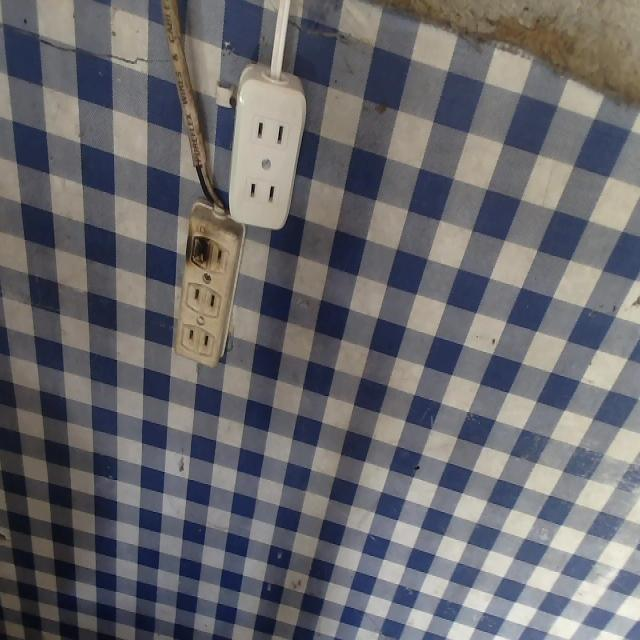-: (182, 224, 216, 275)
